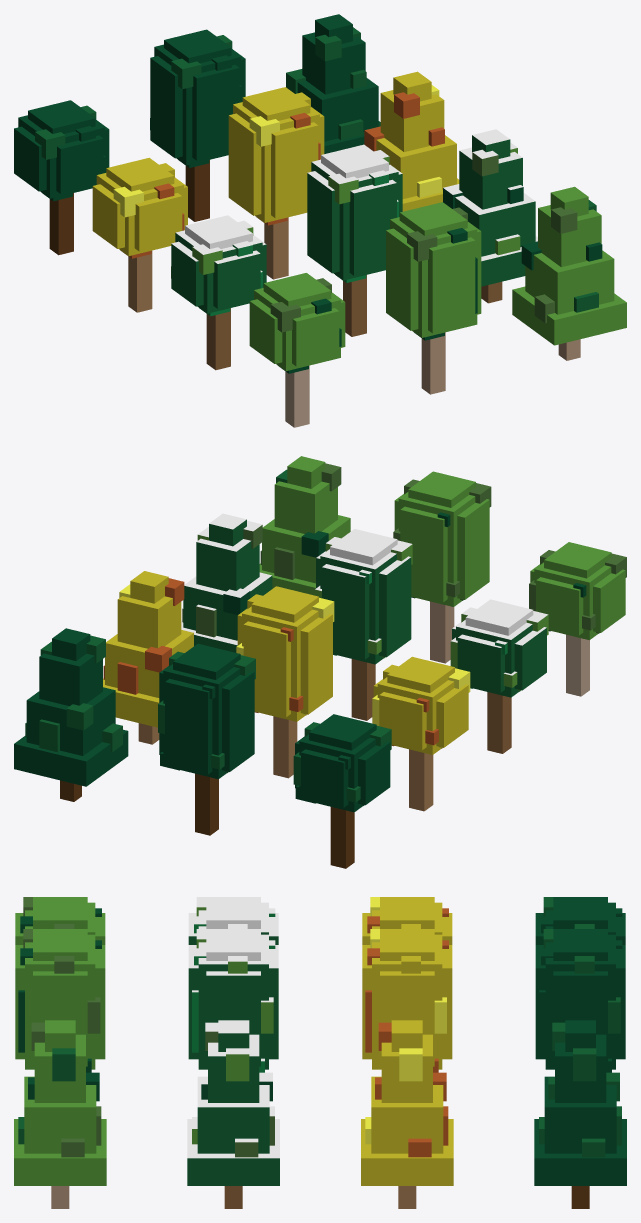
The model's file is SM_Trees.fbx.
The picture shows the model from 3 angles, top to bottom: view 1: azimuth 30°, elevation 25°; view 2: azimuth 150°, elevation 25°; view 3: azimuth 270°, elevation 25°; orthographic projection. The views are drawn at different scales.
Visible parts, largest first — view 1: SM_Tree_02_Clean, SM_Tree_03_Clean, SM_Tree_02_Autumn, SM_Tree_02_Dark, SM_Tree_02_Snowy, SM_Tree_03_Snowy, SM_Tree_01_Clean, SM_Tree_01_Autumn, SM_Tree_01_Snowy, SM_Tree_01_Dark, SM_Tree_03_Autumn, SM_Tree_03_Dark; view 2: SM_Tree_02_Dark, SM_Tree_03_Dark, SM_Tree_02_Snowy, SM_Tree_02_Clean, SM_Tree_02_Autumn, SM_Tree_03_Autumn, SM_Tree_01_Dark, SM_Tree_01_Autumn, SM_Tree_01_Snowy, SM_Tree_01_Clean, SM_Tree_03_Clean, SM_Tree_03_Snowy; view 3: SM_Tree_03_Autumn, SM_Tree_03_Clean, SM_Tree_03_Snowy, SM_Tree_03_Dark, SM_Tree_02_Snowy, SM_Tree_02_Dark, SM_Tree_02_Clean, SM_Tree_02_Autumn, SM_Tree_01_Clean, SM_Tree_01_Autumn, SM_Tree_01_Snowy, SM_Tree_01_Dark.
Boxes of the visible parts, <box> form: SM_Tree_02_Clean: <box>386,202,481,394</box>; SM_Tree_03_Clean: <box>512,186,626,360</box>; SM_Tree_02_Autumn: <box>228,87,324,279</box>; SM_Tree_02_Dark: <box>150,29,245,221</box>; SM_Tree_02_Snowy: <box>307,144,402,336</box>; SM_Tree_03_Snowy: <box>443,129,537,303</box>; SM_Tree_01_Clean: <box>249,273,345,427</box>; SM_Tree_01_Autumn: <box>92,157,187,312</box>; SM_Tree_01_Snowy: <box>171,215,266,370</box>; SM_Tree_01_Dark: <box>14,100,109,255</box>; SM_Tree_03_Autumn: <box>364,71,459,211</box>; SM_Tree_03_Dark: <box>286,14,380,153</box>; SM_Tree_02_Dark: <box>158,643,255,835</box>; SM_Tree_03_Dark: <box>14,628,128,801</box>; SM_Tree_02_Snowy: <box>314,529,412,720</box>; SM_Tree_02_Clean: <box>393,471,491,663</box>; SM_Tree_02_Autumn: <box>236,586,334,778</box>; SM_Tree_03_Autumn: <box>103,571,193,744</box>; SM_Tree_01_Dark: <box>293,714,391,868</box>; SM_Tree_01_Autumn: <box>372,656,470,811</box>; SM_Tree_01_Snowy: <box>450,599,548,753</box>; SM_Tree_01_Clean: <box>529,542,626,696</box>; SM_Tree_03_Clean: <box>259,456,350,595</box>; SM_Tree_03_Snowy: <box>181,513,272,652</box>; SM_Tree_03_Autumn: <box>361,1020,453,1208</box>; SM_Tree_03_Clean: <box>14,1020,106,1208</box>; SM_Tree_03_Snowy: <box>187,1020,279,1208</box>; SM_Tree_03_Dark: <box>534,1020,626,1208</box>; SM_Tree_02_Snowy: <box>188,929,278,1072</box>; SM_Tree_02_Dark: <box>535,929,625,1072</box>; SM_Tree_02_Clean: <box>15,929,105,1072</box>; SM_Tree_02_Autumn: <box>362,929,452,1072</box>; SM_Tree_01_Clean: <box>15,897,105,944</box>; SM_Tree_01_Autumn: <box>362,897,452,944</box>; SM_Tree_01_Snowy: <box>188,897,278,944</box>; SM_Tree_01_Dark: <box>535,897,625,944</box>.
Size of the model in its own units: 25.26 by 35.33 by 12.16.
